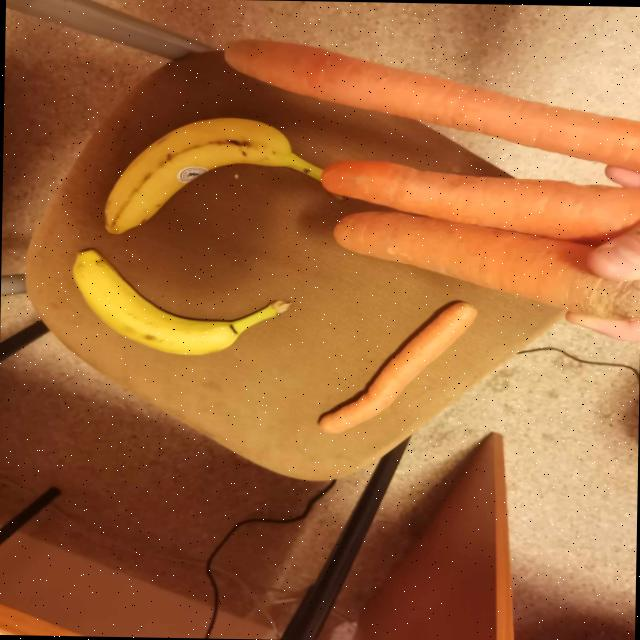banana: (105, 117, 322, 233), (73, 249, 289, 354)
carrot: (225, 39, 640, 169), (335, 211, 638, 318), (321, 160, 640, 242), (318, 301, 476, 433)
